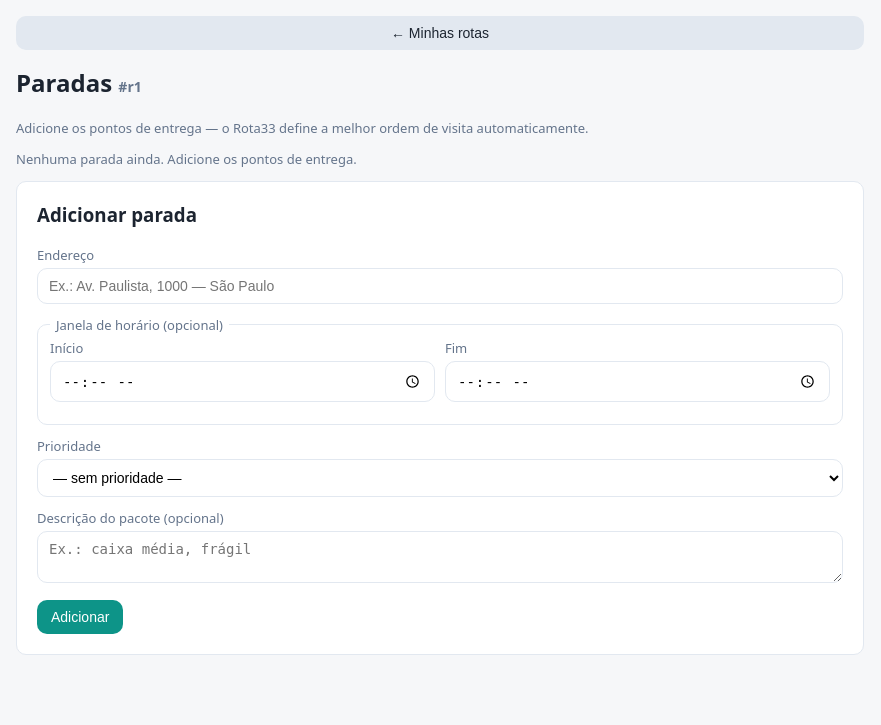
RotaDetalhePage › valida endereço obrigatório antes de submeter
Click the button "Adicionar".
click(80, 617)  # box [37, 600, 123, 634]
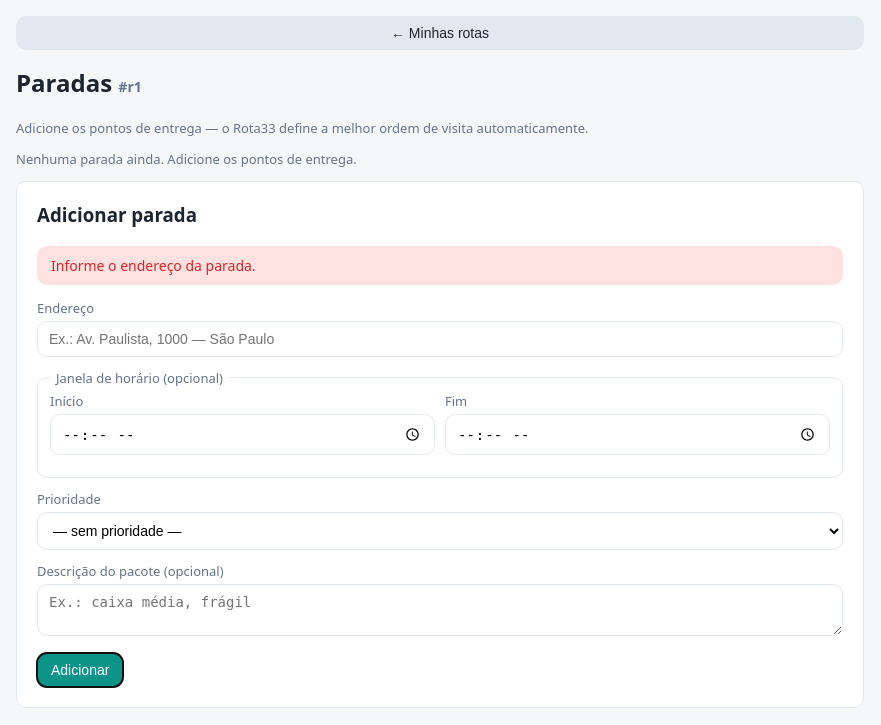
Result: the message reads "Informe o endereço da parada." at [51, 256, 256, 275]
